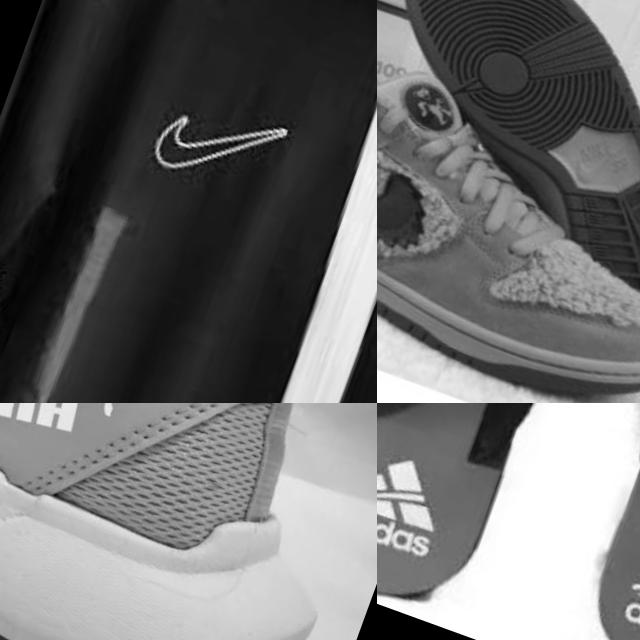ADIDAS_fake: (377, 423, 468, 575)
NIKE_fake: (377, 56, 471, 294)
NIKE_original: (112, 12, 337, 262)
PUMA_fake: (0, 403, 184, 512)
